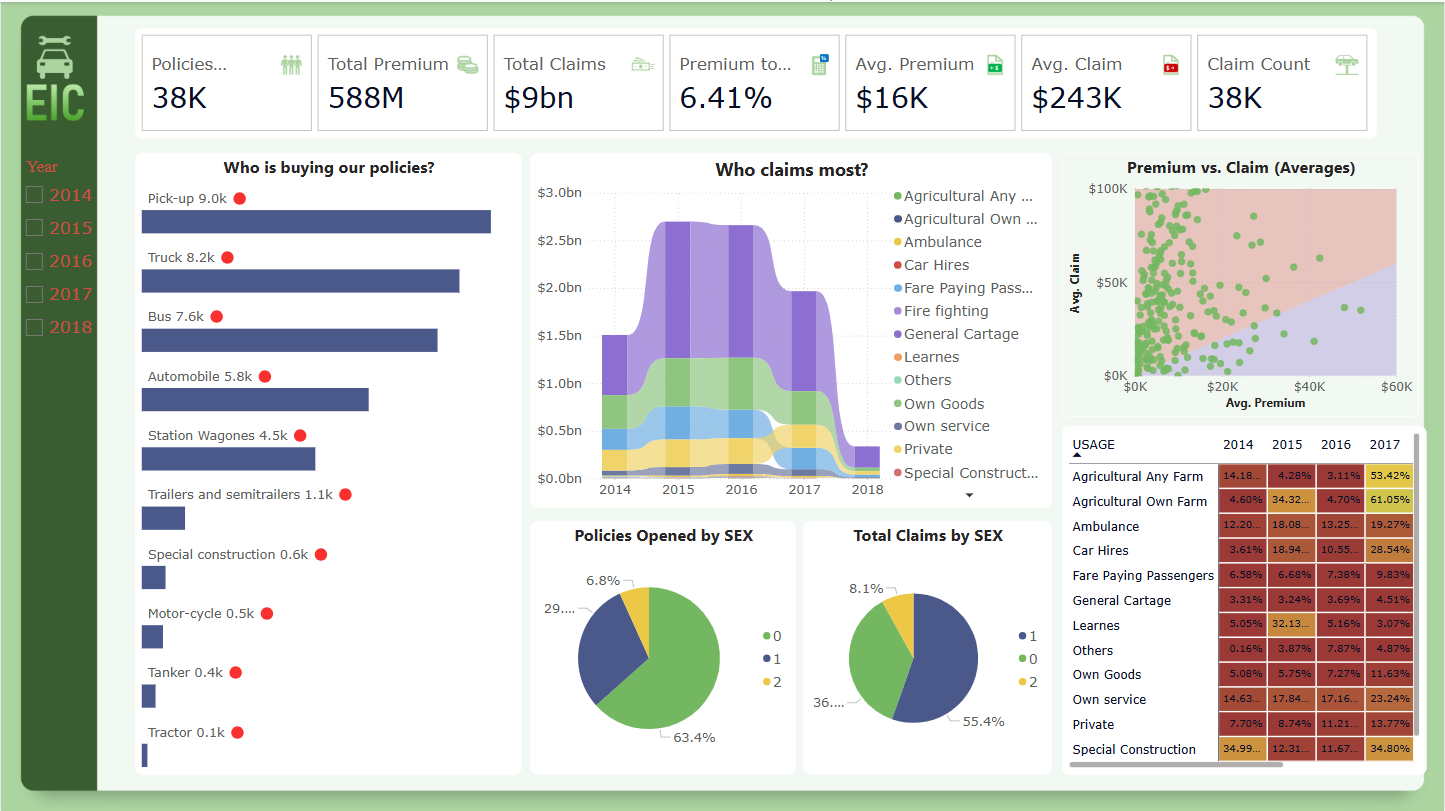

What the dashboard file says about the page in this screenshot:
{"tool":"powerbi","page":{"name":"Page 1","canvas":[1920,1080],"ordinal":0},"visuals":[{"type":"cardVisual","fields":{"Data":["policies.Policies Opened","policies.Total Premium","policies.Total Claims","policies.Premium to Claims Ratio","policies.Avg. Premium","policies.Avg. Claim","policies.Claim Count"]},"box":[178.4,34.8,1652.4,146.6],"z":0},{"type":"slicer","fields":{"Values":["calendar.Year"]},"box":[19.7,201.1,148.2,257],"z":1000},{"type":"clusteredBarChart","title":"Who is buying our policies?","fields":{"Category":["policies.TYPE_VEHICLE"],"Y":["policies.Dummy Series","policies.Policies Opened"]},"box":[178.4,201.1,514,827],"z":2001},{"type":"ribbonChart","title":"Who claims most?","fields":{"Category":["calendar.Year"],"Y":["policies.Total Claims"],"Series":["policies.USAGE"]},"box":[703.6,200.8,694.3,472.2],"z":2002},{"type":"pieChart","fields":{"Category":["policies.SEX"],"Y":["policies.Policies Opened"]},"box":[703,690.9,353.8,337.1],"z":2003},{"type":"pieChart","fields":{"Category":["policies.SEX"],"Y":["policies.Total Claims"]},"box":[1067.3,690.9,331.1,337.1],"z":2004},{"type":"scatterChart","title":"Premium vs.  Claim (Averages)","fields":{"Category":["policies.TYPE_VEHICLE","policies.MAKE"],"X":["policies.Avg. Premium"],"Y":["policies.Avg. Claim"]},"box":[1411.2,200.8,474.8,351.1],"z":2005},{"type":"pivotTable","fields":{"Rows":["policies.USAGE"],"Columns":["calendar.Year"],"Values":["policies.Premium to Claims Ratio"]},"box":[1410.5,563.9,485.3,464.1],"z":2006},{"type":"image","box":[0,34.8,143.6,146.6],"z":2007}]}

Visuals, with their boxes in screenshot pixels (x1, y1, x2, y2), scaled from the page's 1920x1080 canvas onto the 1445x811 screenshot:
cardVisual - policies.Policies Opened x policies.Total Premium: crop(134, 26, 1378, 136)
slicer - calendar.Year: crop(15, 151, 126, 344)
"Who is buying our policies?" clusteredBarChart: crop(134, 151, 521, 772)
"Who claims most?" ribbonChart: crop(530, 151, 1052, 505)
pieChart - policies.SEX x policies.Policies Opened: crop(529, 519, 795, 772)
pieChart - policies.SEX x policies.Total Claims: crop(803, 519, 1052, 772)
"Premium vs.  Claim (Averages)" scatterChart: crop(1062, 151, 1419, 414)
pivotTable - policies.USAGE x calendar.Year: crop(1062, 423, 1427, 772)
image: crop(0, 26, 108, 136)
